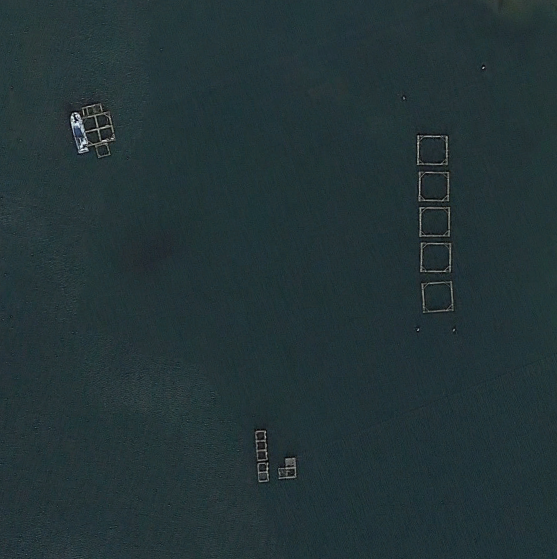ship: (66, 110, 85, 153)
square: (413, 238, 461, 279), (411, 129, 457, 169), (414, 277, 461, 316), (411, 202, 458, 239), (411, 166, 455, 204), (80, 109, 115, 144)
